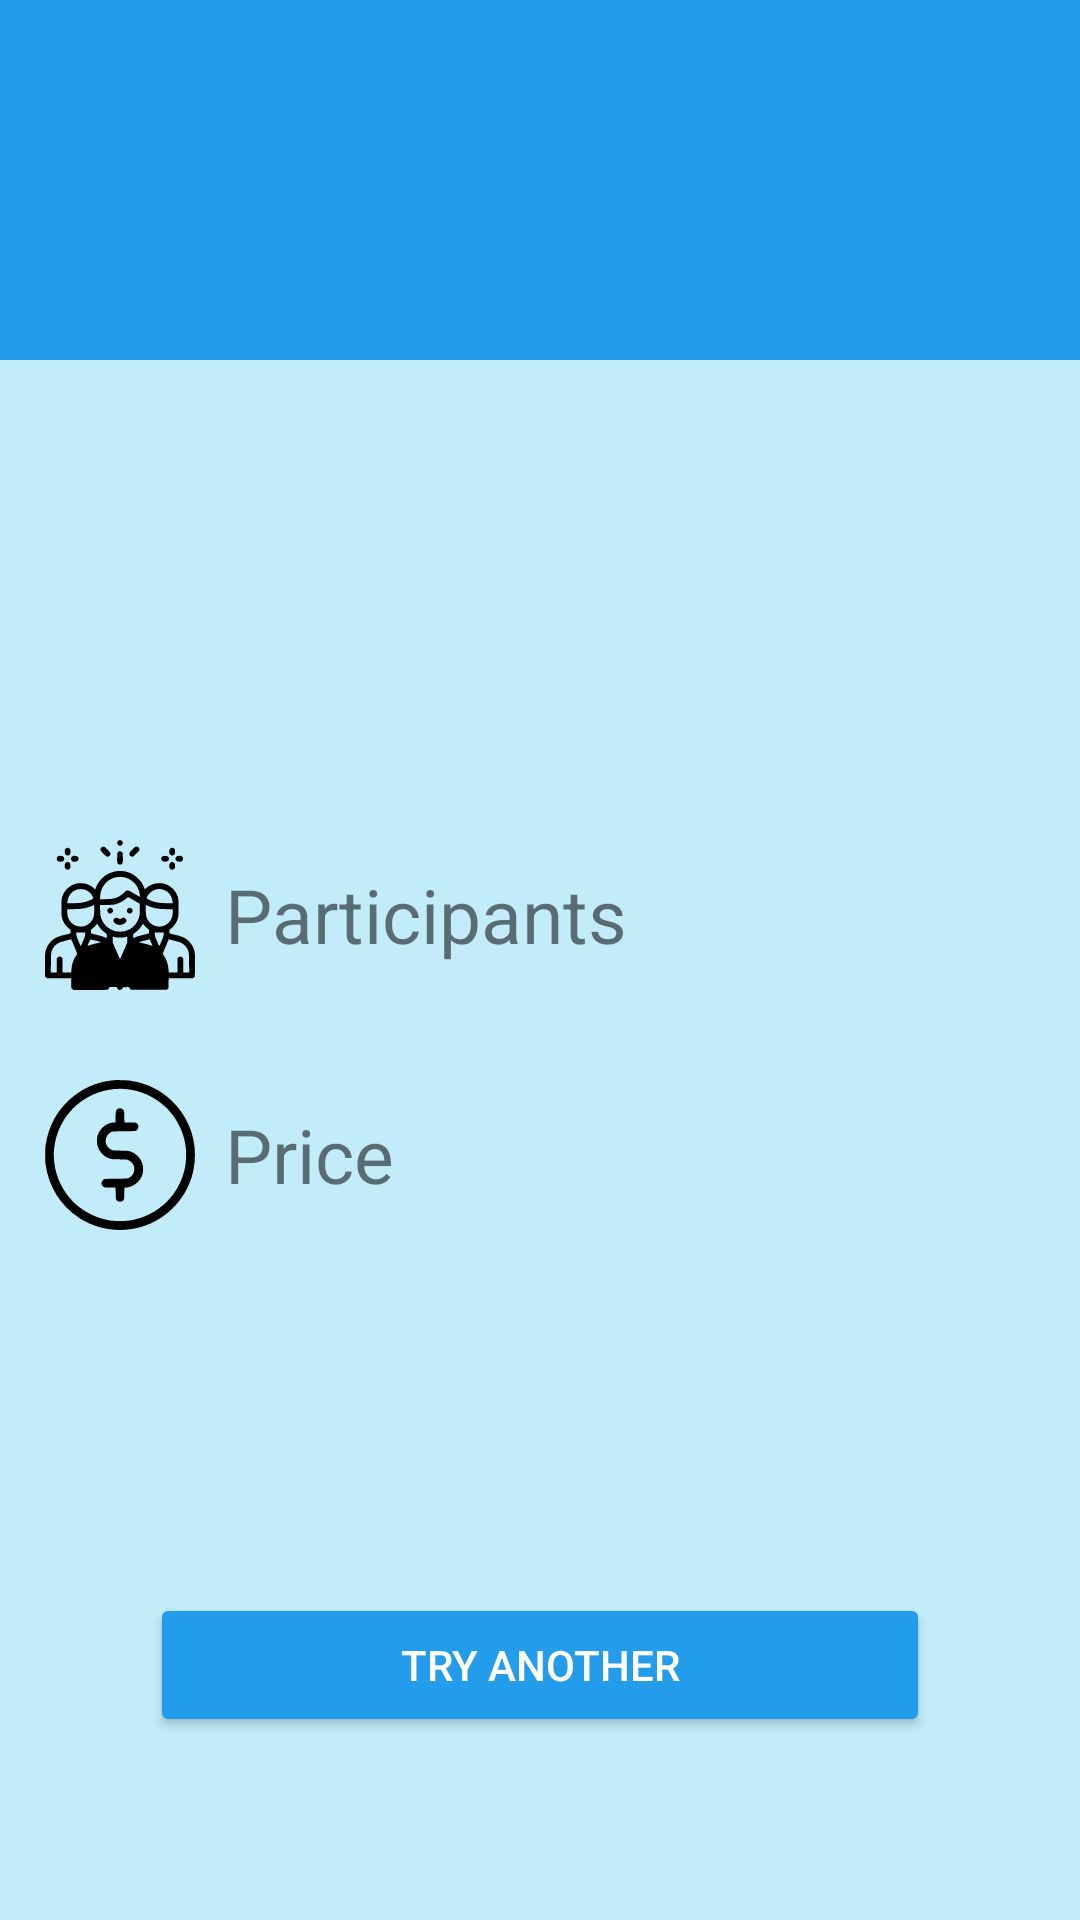

Where icons sit on this 1080*1920 app screen, as (x1, y1, x2, y2):
coin: (45, 1080, 195, 1230)
